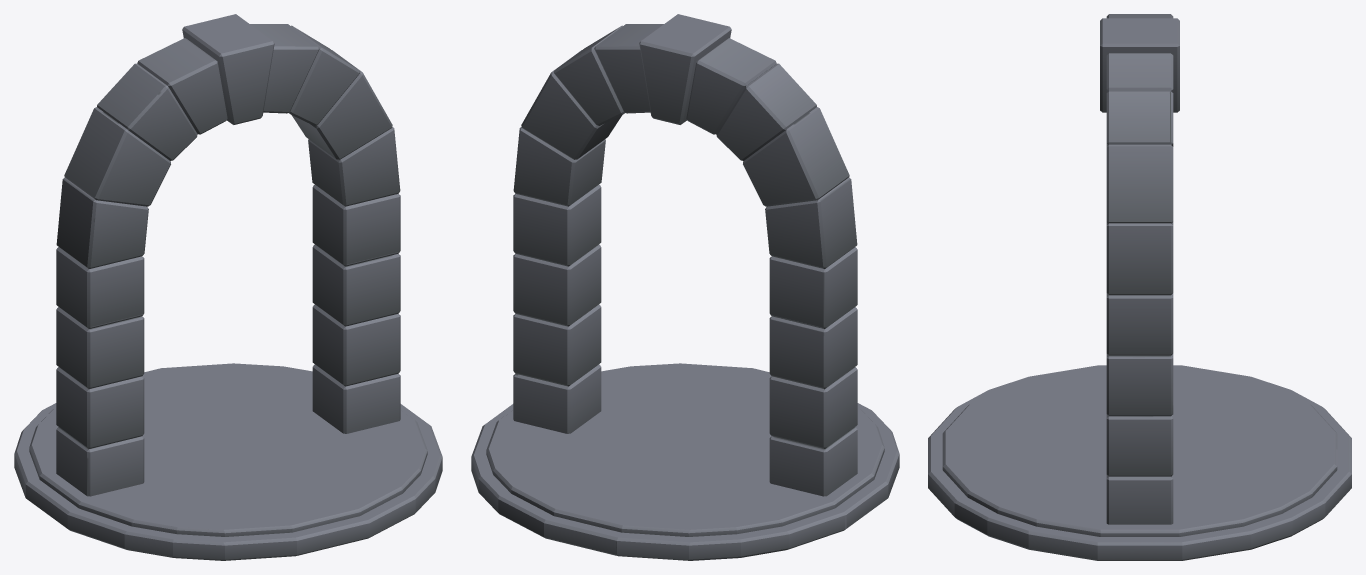
The model's file is Gate.fbx.
3 renders of one model, left to right at view 1: azimuth 30°, elevation 25°; view 2: azimuth 150°, elevation 25°; view 3: azimuth 270°, elevation 25°, orthographic.
Parts seen in each view (by area): view 1: Gate; view 2: Gate; view 3: Gate.
Boxes of the visible parts, x1=… form: Gate: x1=14, y1=14, x2=442, y2=560; Gate: x1=471, y1=14, x2=899, y2=560; Gate: x1=928, y1=14, x2=1351, y2=560.
Bounding box in the file's own units: 826 × 826 × 950.
Materials: 1 (1 with a texture image).
